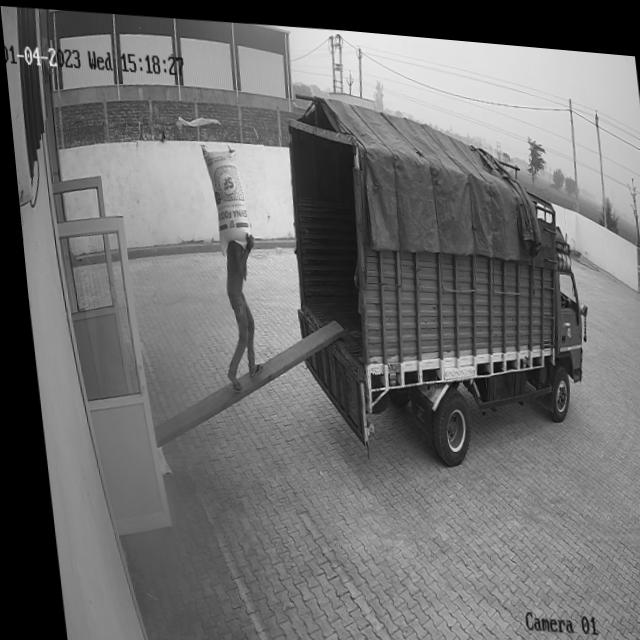sack: (198, 139, 249, 253)
